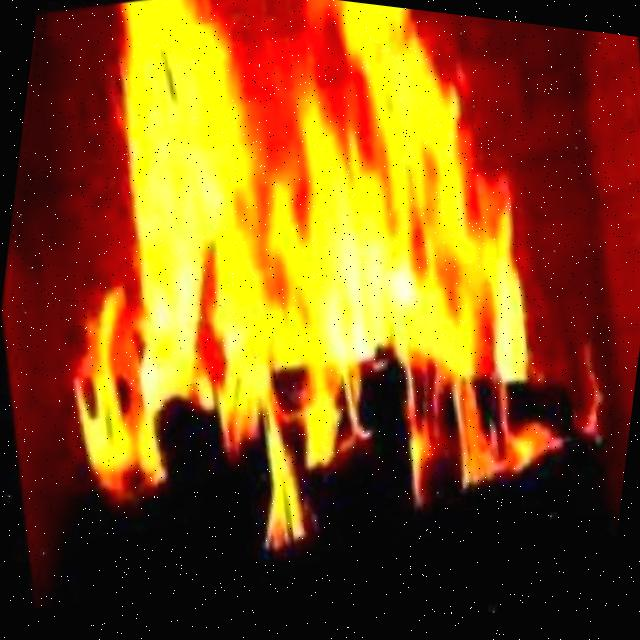fire: (0, 0, 560, 550)
